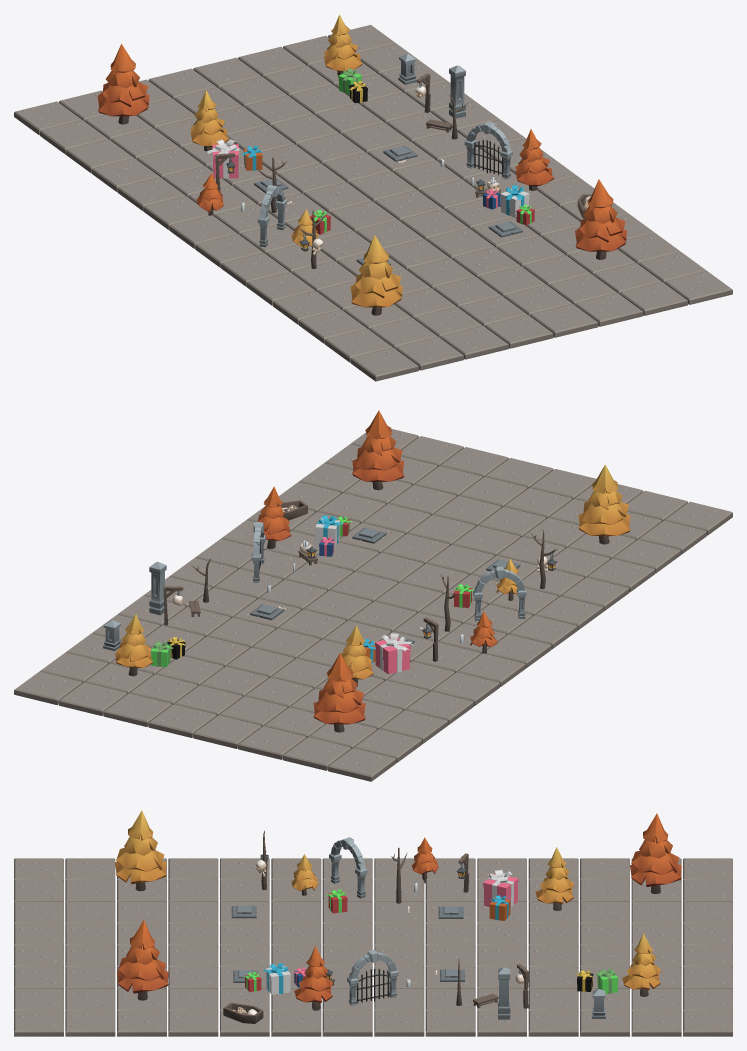
Rendered from gameboard.glb.
3 renders of one model, top to bottom at view 1: azimuth 30°, elevation 25°; view 2: azimuth 150°, elevation 25°; view 3: azimuth 270°, elevation 25°, orthographic.
Parts seen in each view (by area): view 1: floor_dirt, tree_pine_orange_large, tree_pine_yellow_large, tree_pine_orange_large.001, tree_pine_orange_medium, tree_pine_yellow_medium.001, tree_pine_yellow_medium, arch_gate, arch, Present.004, pillar, tree_pine_orange_small (+1 smaller); view 2: floor_dirt, tree_pine_orange_large, tree_pine_orange_large.001, tree_pine_yellow_large, tree_pine_yellow_medium.001, Present.004, tree_pine_orange_medium, tree_pine_yellow_medium, arch, pillar, tree_pine_orange_small, arch_gate; view 3: floor_dirt, tree_pine_orange_large.001, tree_pine_yellow_large, tree_pine_orange_large, tree_pine_yellow_medium, tree_pine_orange_medium, tree_pine_yellow_medium.001, arch, arch_gate, Present.004, Present.005, coffin_decorated (+6 smaller).
Boxes of the visible parts, x1,y1,x2,y2 form: floor_dirt: (14, 25, 732, 381); tree_pine_orange_large: (97, 44, 149, 124); tree_pine_yellow_large: (350, 235, 402, 315); tree_pine_orange_large.001: (575, 179, 626, 259); tree_pine_orange_medium: (515, 129, 554, 190); tree_pine_yellow_medium.001: (323, 14, 362, 75); tree_pine_yellow_medium: (190, 90, 229, 151); arch_gate: (464, 121, 512, 179); arch: (257, 185, 287, 247); Present.004: (206, 139, 239, 178); pillar: (449, 65, 465, 118); tree_pine_orange_small: (196, 173, 224, 215); floor_dirt: (14, 429, 732, 781); tree_pine_orange_large: (313, 653, 365, 732); tree_pine_orange_large.001: (352, 410, 404, 490); tree_pine_yellow_large: (578, 464, 630, 544); tree_pine_yellow_medium.001: (115, 613, 152, 676); Present.004: (375, 633, 412, 674); tree_pine_orange_medium: (257, 486, 291, 549); tree_pine_yellow_medium: (341, 625, 373, 686); arch: (473, 566, 526, 621); pillar: (149, 562, 166, 615); tree_pine_orange_small: (470, 611, 497, 653); arch_gate: (251, 522, 265, 582); floor_dirt: (14, 858, 732, 1036); tree_pine_orange_large.001: (117, 920, 168, 1000); tree_pine_yellow_large: (115, 810, 166, 891); tree_pine_orange_large: (630, 813, 681, 893); tree_pine_yellow_medium: (535, 847, 574, 910); tree_pine_orange_medium: (294, 946, 332, 1010); tree_pine_yellow_medium.001: (622, 933, 660, 996); arch: (329, 837, 367, 898); arch_gate: (347, 950, 398, 1005); Present.004: (483, 869, 518, 907); Present.005: (263, 963, 290, 994); coffin_decorated: (223, 1002, 263, 1023).
Bounding box in the file's own units: 32.84 × 7.48 × 57.56.
3 materials, 3 textured.
